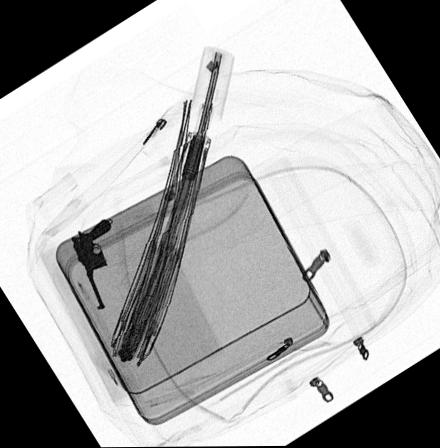Gun: (69, 217, 111, 311)
